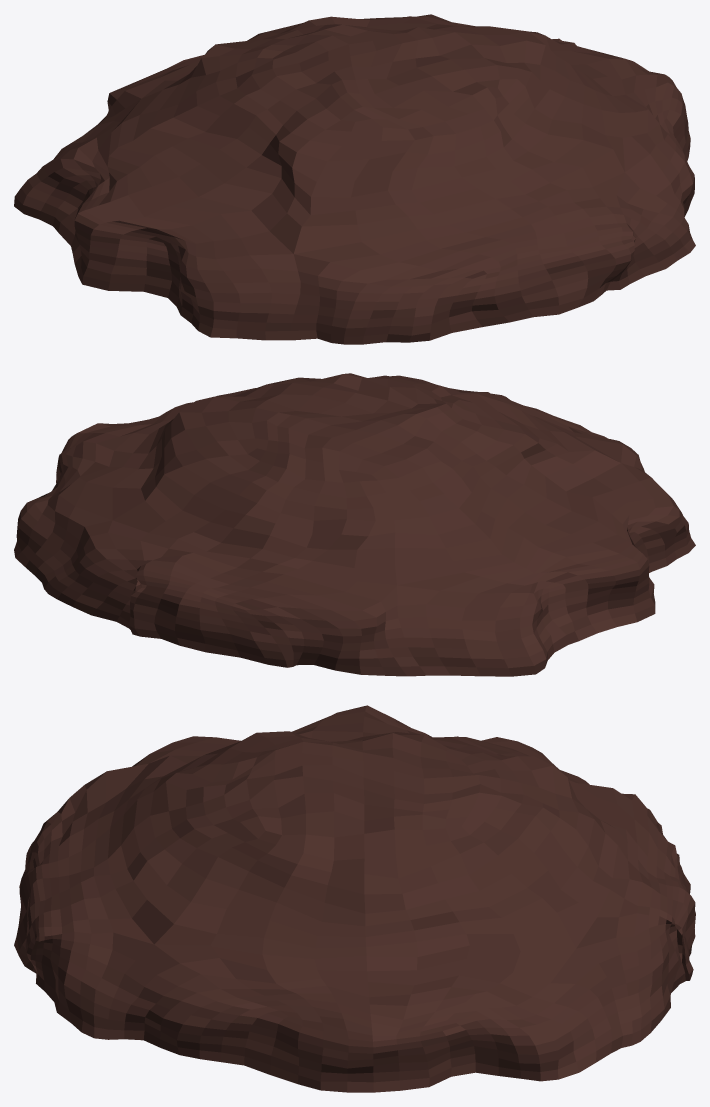
File: CaveRoof.fbx
3 views of the same model, one above another, from view 1: azimuth 30°, elevation 25°; view 2: azimuth 150°, elevation 25°; view 3: azimuth 270°, elevation 25° (orthographic). The views are drawn at different scales.
Parts seen in each view (by area): view 1: Plane.002; view 2: Plane.002; view 3: Plane.002.
Part boxes in pixels (left/top/right/bottom): Plane.002: left=14, top=14, right=695, bottom=344; Plane.002: left=14, top=373, right=695, bottom=676; Plane.002: left=14, top=705, right=695, bottom=1092.
Bounding box in the file's own units: 1505 × 354 × 1332.
